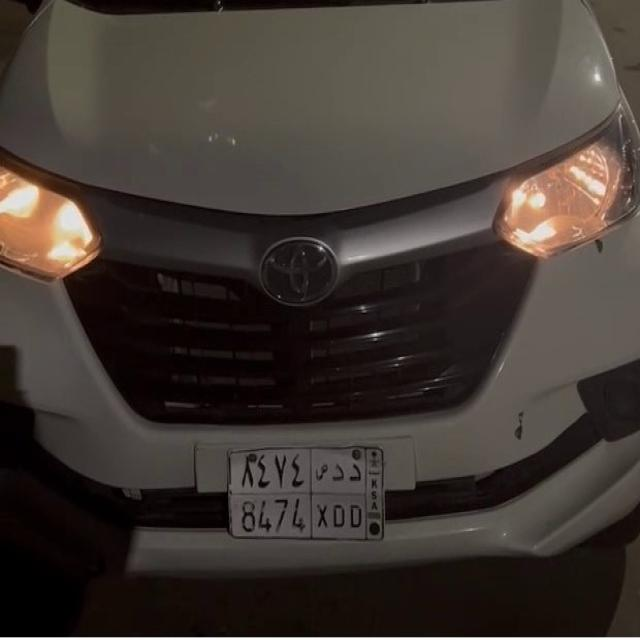Car-plate: (219, 426, 396, 563)
